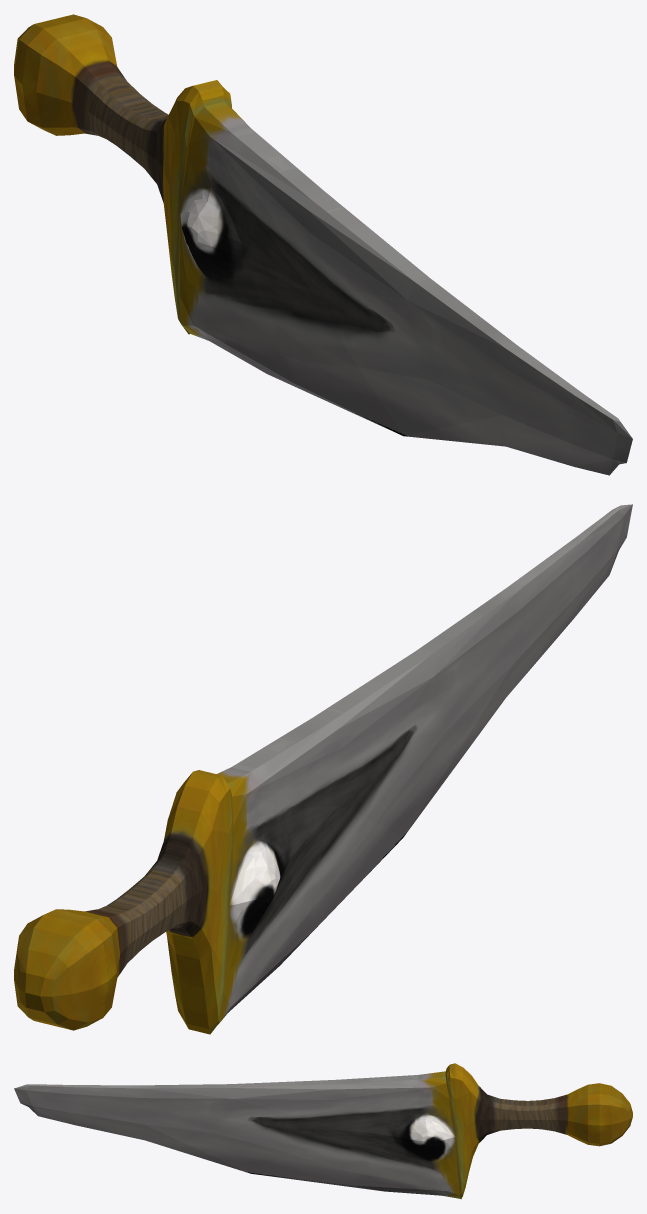
The model's file is blade.obj.
3 views of the same model, one above another, from view 1: azimuth 30°, elevation 25°; view 2: azimuth 150°, elevation 25°; view 3: azimuth 270°, elevation 25° (orthographic). The views are drawn at different scales.
Parts seen in each view (by area): view 1: Cube; view 2: Cube; view 3: Cube.
Boxes of the visible parts, box(x1,y1,x2,y2) form: Cube: box(14, 14, 632, 475); Cube: box(14, 504, 632, 1034); Cube: box(14, 1063, 632, 1199).
Bounding box in the file's own units: 1.31 × 3.67 × 15.75.
1 material, 1 textured.
